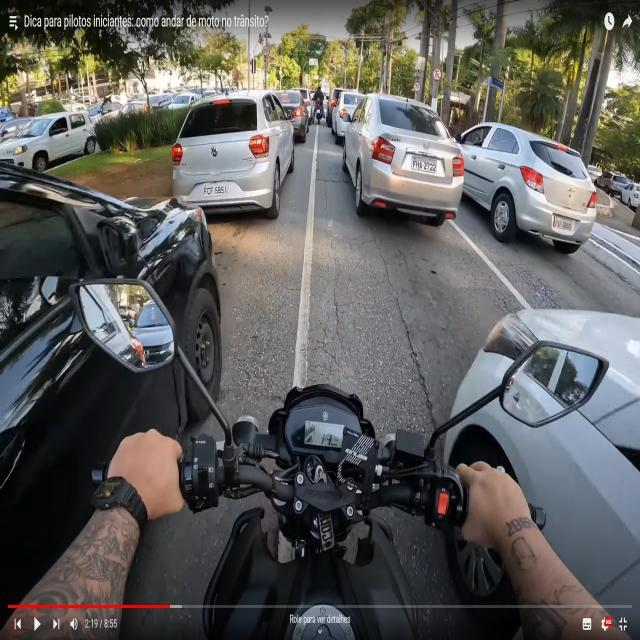Placa_mercosul_carro: (411, 155, 438, 174), (203, 184, 230, 198), (554, 217, 572, 231)
